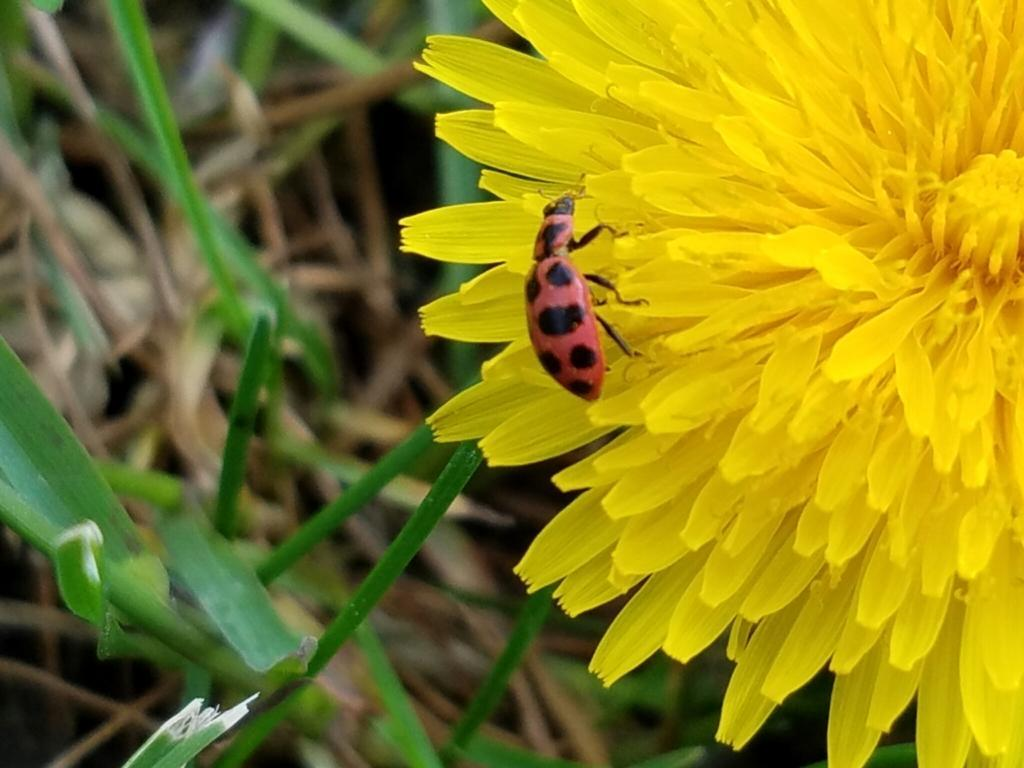ladybug: (521, 185, 655, 405)
